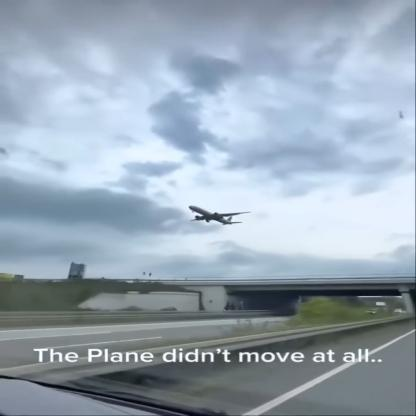plane: (173, 199, 258, 232)
